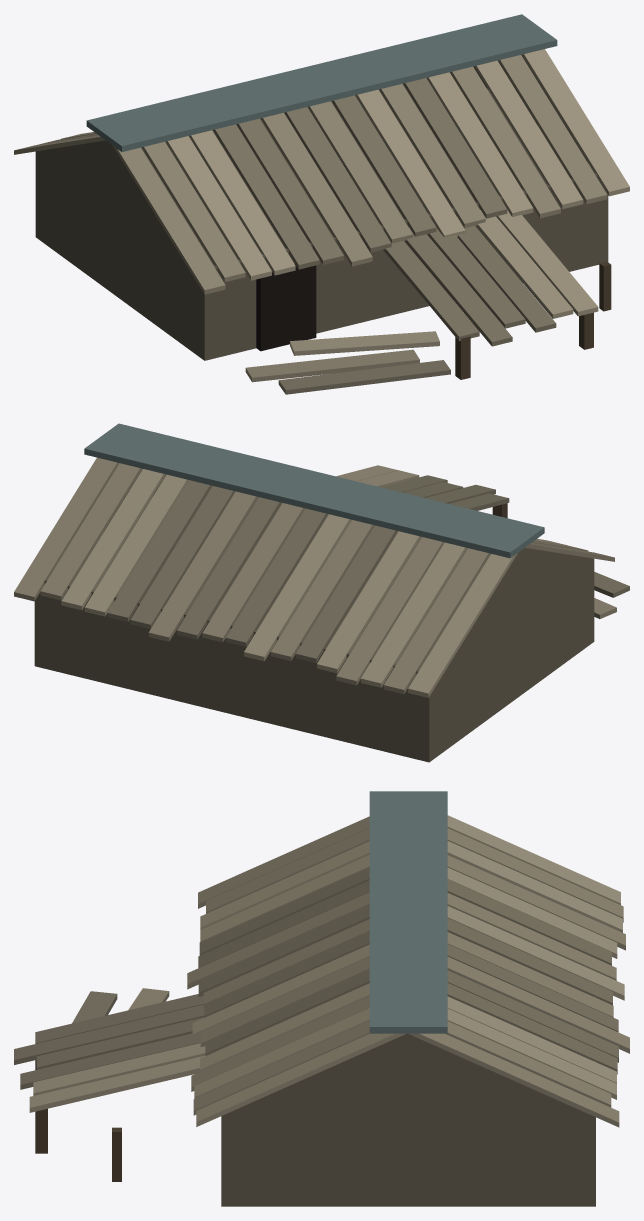
File: VerHut08.glb
3 views of the same model, one above another, from view 1: azimuth 30°, elevation 25°; view 2: azimuth 150°, elevation 25°; view 3: azimuth 270°, elevation 25° (orthographic). The views are drawn at different scales.
Parts seen in each view (by area): view 1: VerHut08_shed; view 2: VerHut08_shed; view 3: VerHut08_shed.
Boxes of the visible parts, x1,y1,x2,y2 form: VerHut08_shed: [14, 14, 629, 394]; VerHut08_shed: [14, 423, 629, 762]; VerHut08_shed: [14, 791, 629, 1206].
Bounding box in the file's own units: 5.46 × 2.03 × 6.03.
